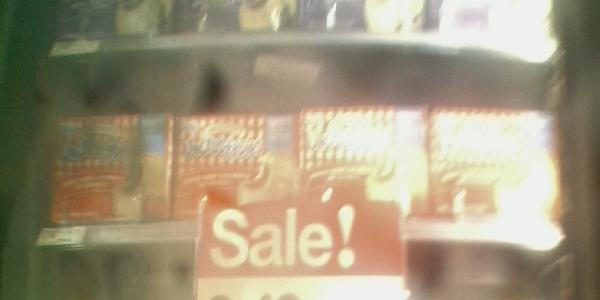icecream: (429, 100, 564, 235), (299, 102, 429, 233), (169, 106, 300, 230), (45, 110, 172, 229)
